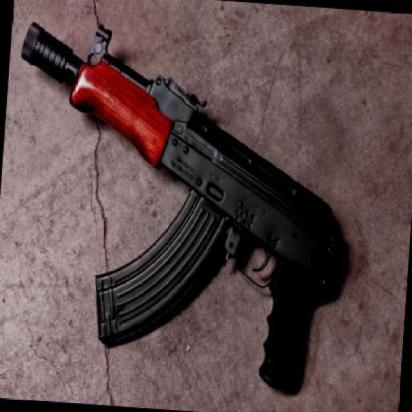Gun: (0, 0, 376, 400)
